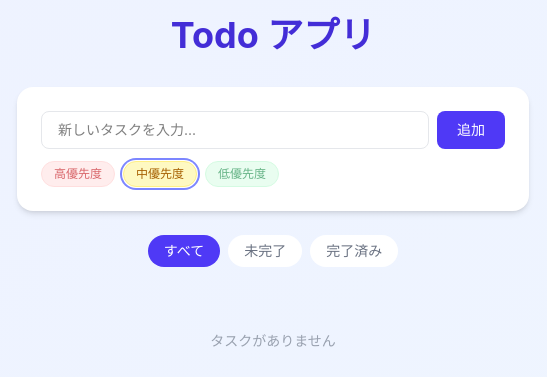
Test: Home (Todo アプリ) › 優先度 › デフォルトの優先度は「中」
Type "タスク" into the field with placeholder "新しいタスクを入力..." at (235, 130), box [41,111,429,149]
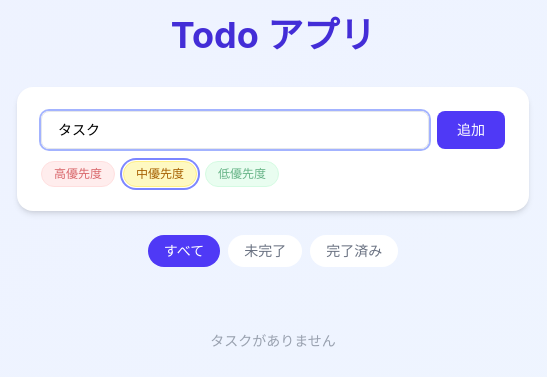
Click the button "追加" at (471, 130), box [437,111,505,149]
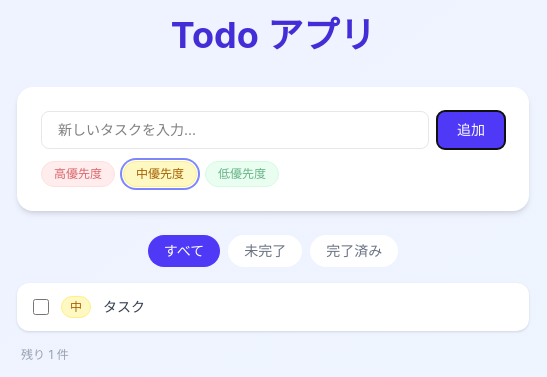
Now the text "中" is shown, box [61,296,91,318]
